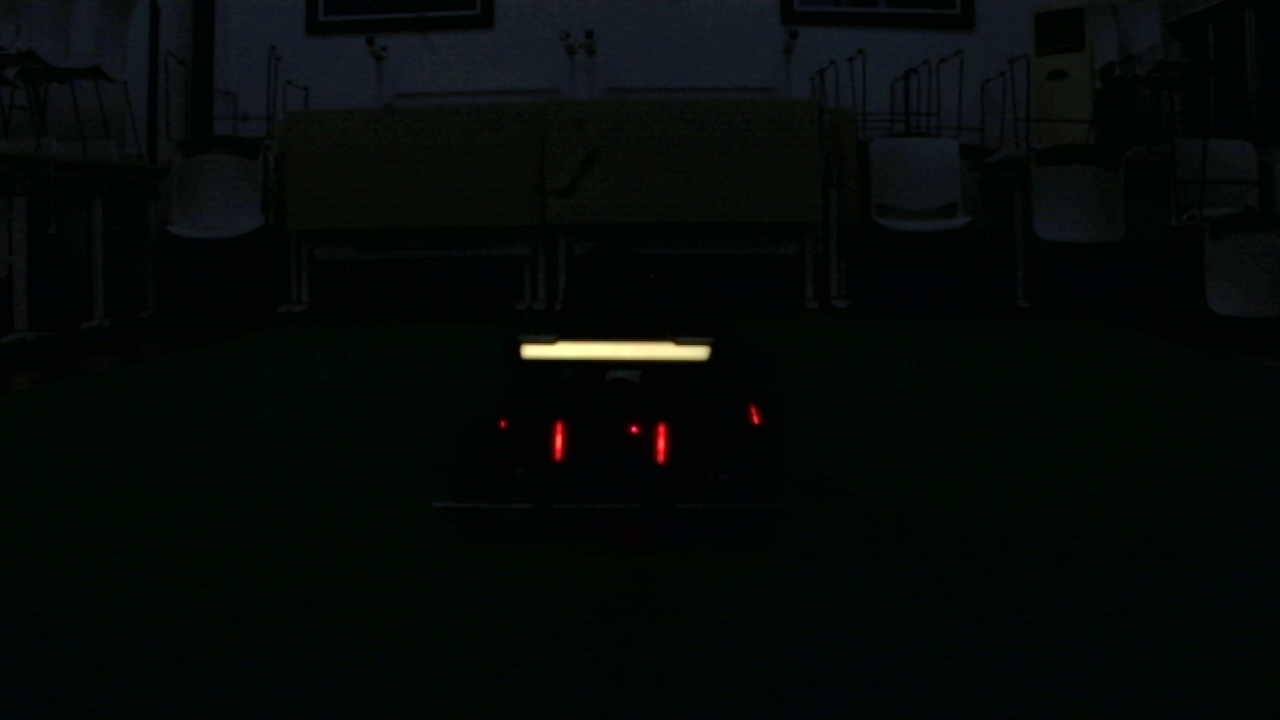lamp: (650, 418, 667, 465), (552, 419, 567, 462)
pair1: (557, 419, 666, 461)
